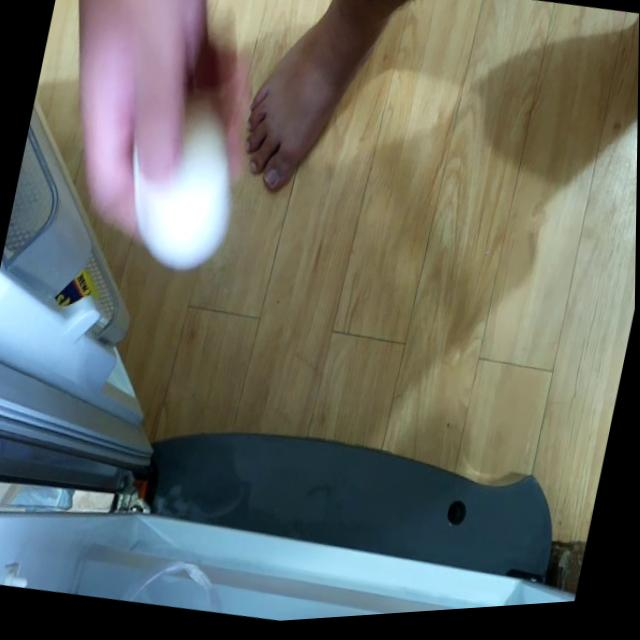egg: (114, 94, 250, 283)
